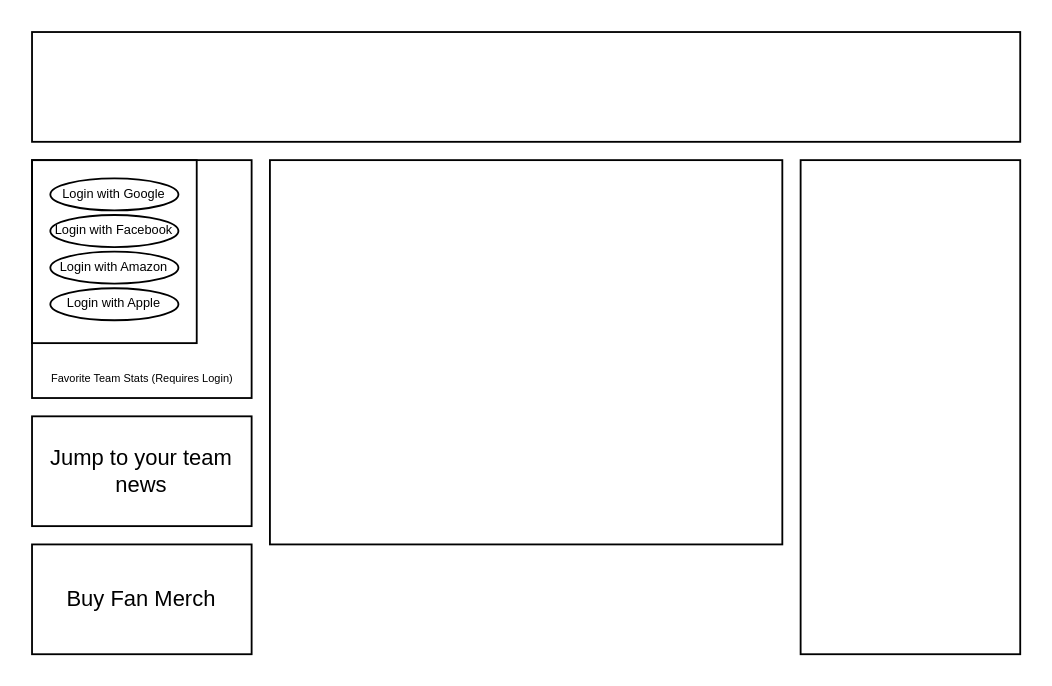
This 1052x686 diagram has some shape labels left out. Here are the shapes that lost their labels. From the top down, the centre of each, then its label:
At (525,86): "Teams Ribbon".
At (525,351): "Hottest News".
At (909,406): "Upcoming Games".
